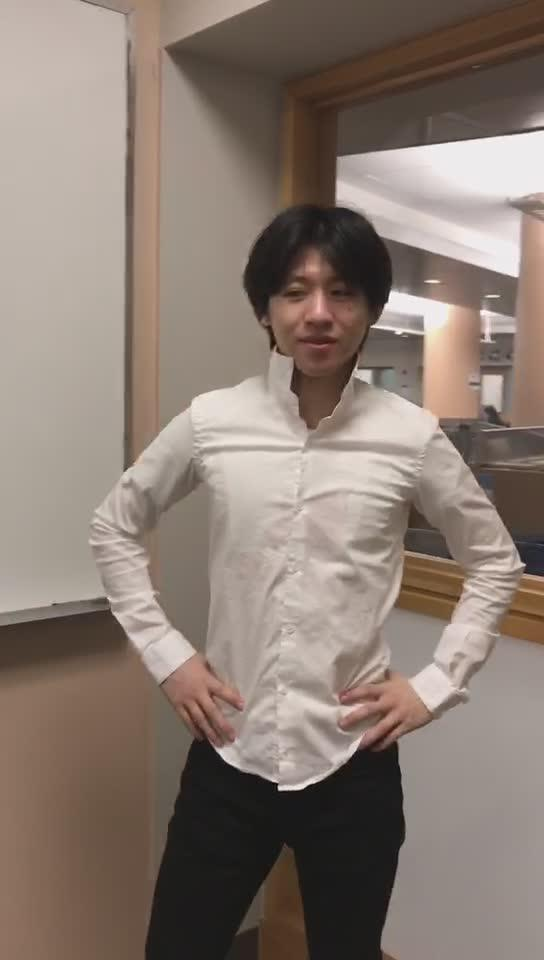shirt: (228, 446, 367, 643)
